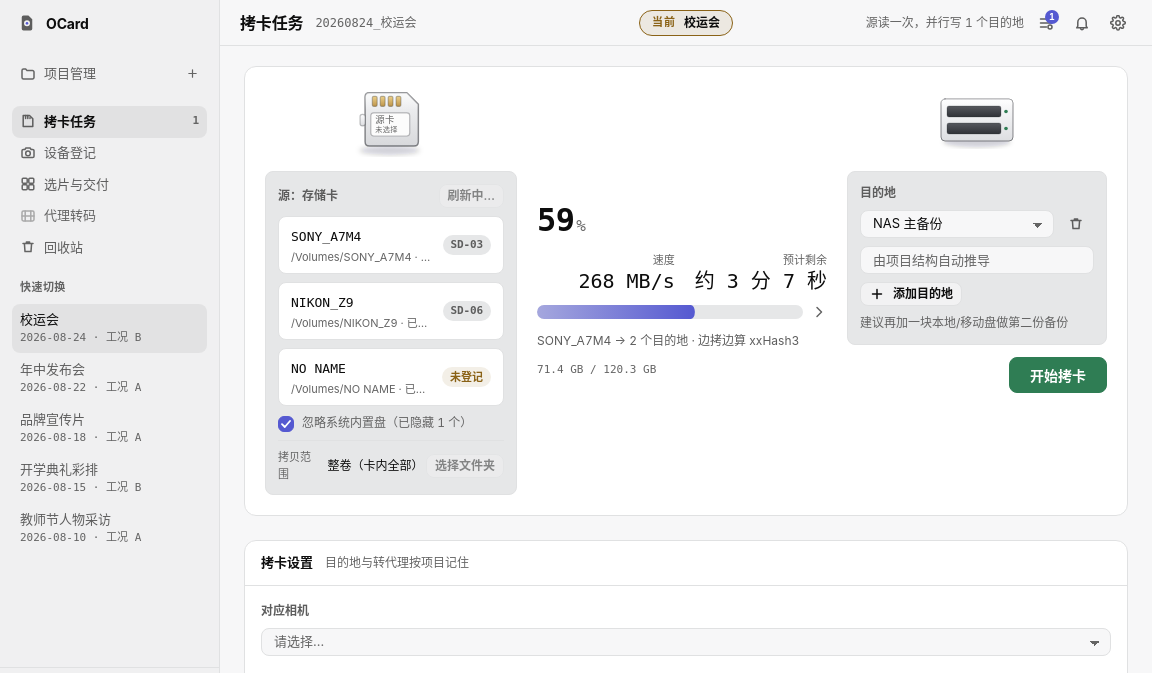
Scenario: 拷卡任务面板 › 选中源卷自动带出已登记相机与目标路径
Click the radio button with aria-label "选择源卷 SONY_A7M4".
click(391, 245)  # box top-left (278, 216), bottom-right (504, 274)
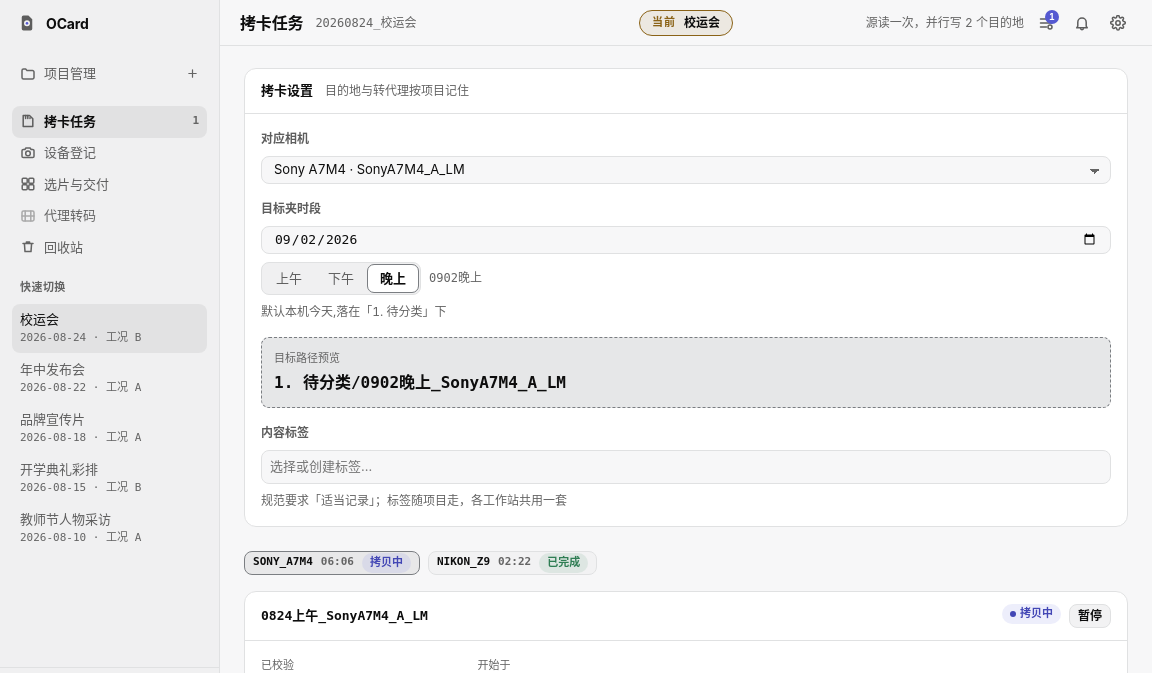
expect the text with test id "copy-target-preview" shows "SonyA7M4_A_LM": met, box top-left (274, 372), bottom-right (566, 392)
